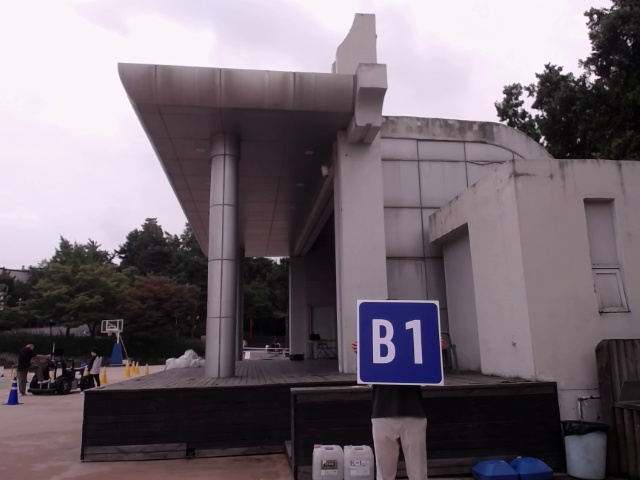delivery_b1: (357, 299, 444, 385)
